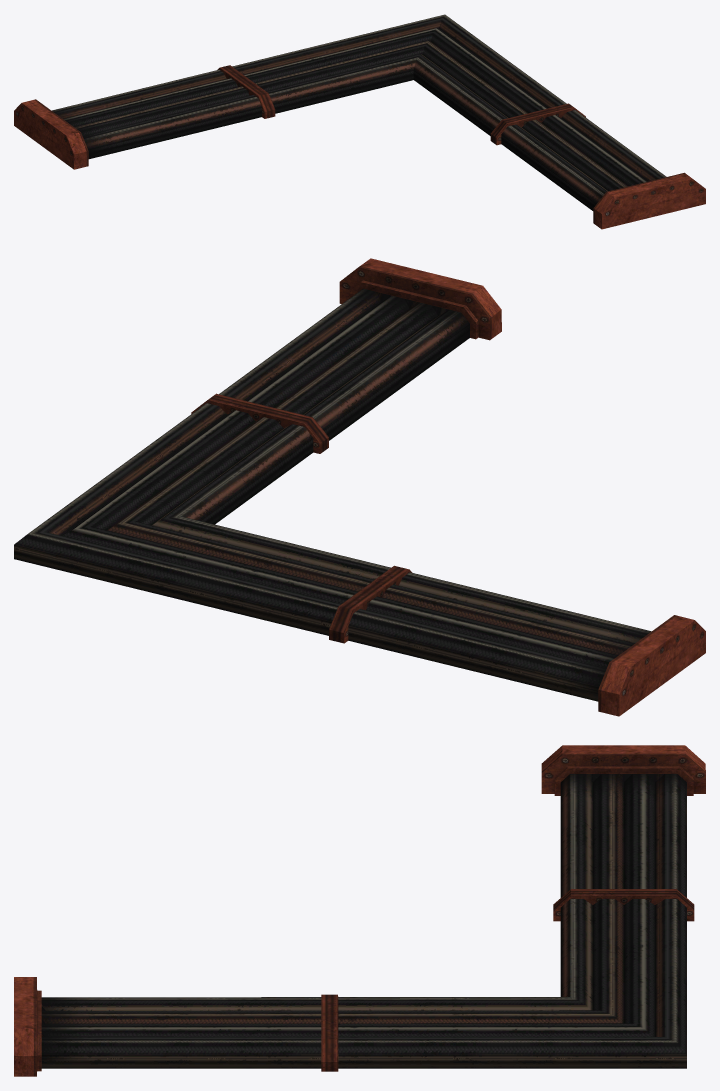
The model's file is cables_wall_turn.dae.
The picture shows the model from 3 angles, top to bottom: view 1: azimuth 30°, elevation 25°; view 2: azimuth 150°, elevation 25°; view 3: azimuth 270°, elevation 25°; orthographic projection. The views are drawn at different scales.
Visible parts, largest first — view 1: polySurface841; view 2: polySurface841; view 3: polySurface841.
Part boxes in pixels (x1,y1,x2,y2): polySurface841: [14, 14, 705, 229]; polySurface841: [14, 258, 705, 716]; polySurface841: [14, 745, 705, 1076].
Size of the model in its own units: 2.27 by 0.1408 by 2.27.
